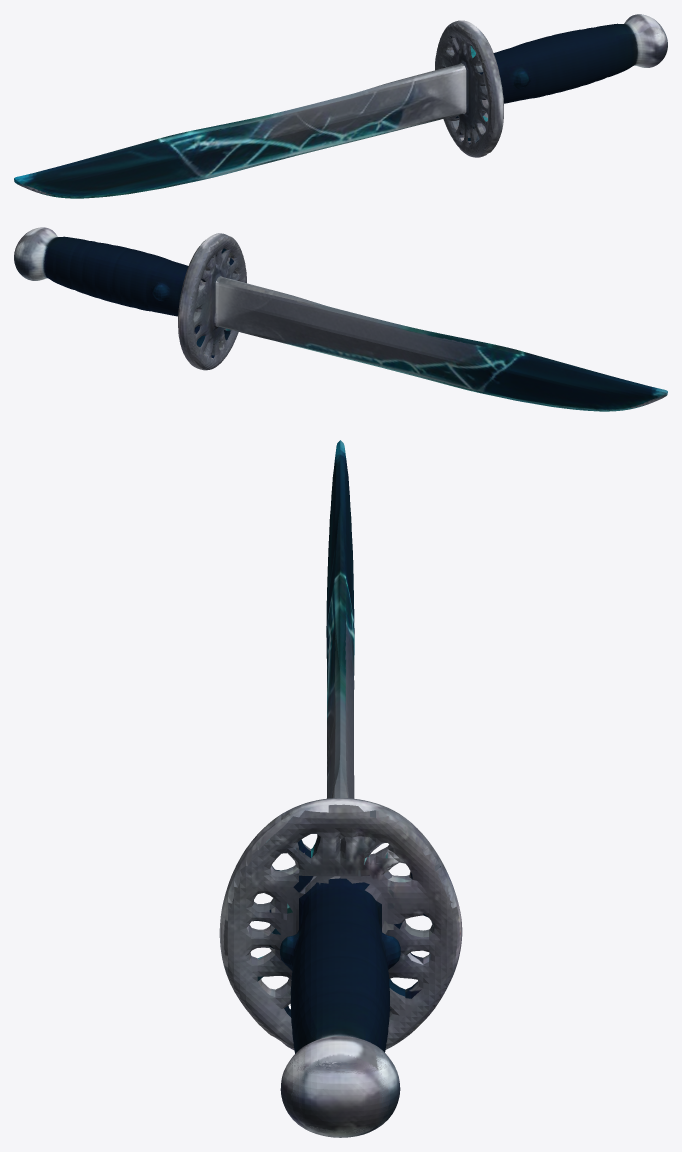
The model's file is kael_sword.glb.
The picture shows the model from 3 angles, top to bottom: view 1: azimuth 30°, elevation 25°; view 2: azimuth 150°, elevation 25°; view 3: azimuth 270°, elevation 25°; orthographic projection. The views are drawn at different scales.
Parts seen in each view (by area): view 1: tmpakwrwwa2.ply; view 2: tmpakwrwwa2.ply; view 3: tmpakwrwwa2.ply.
Part boxes in pixels (x1,y1,x2,y2): tmpakwrwwa2.ply: (14,14,667,198); tmpakwrwwa2.ply: (14,227,667,411); tmpakwrwwa2.ply: (219,440,462,1137).
Size of the model in its own units: 1.99 by 0.379 by 0.3225.
Materials: 1 (1 with a texture image).
